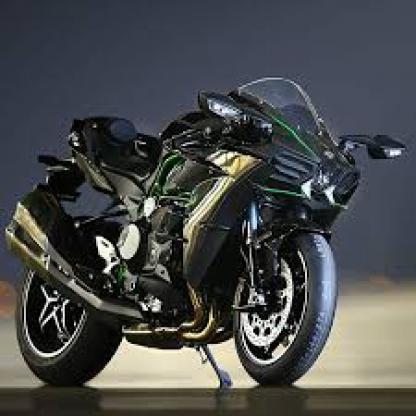Motorcycle: (2, 78, 414, 392)
